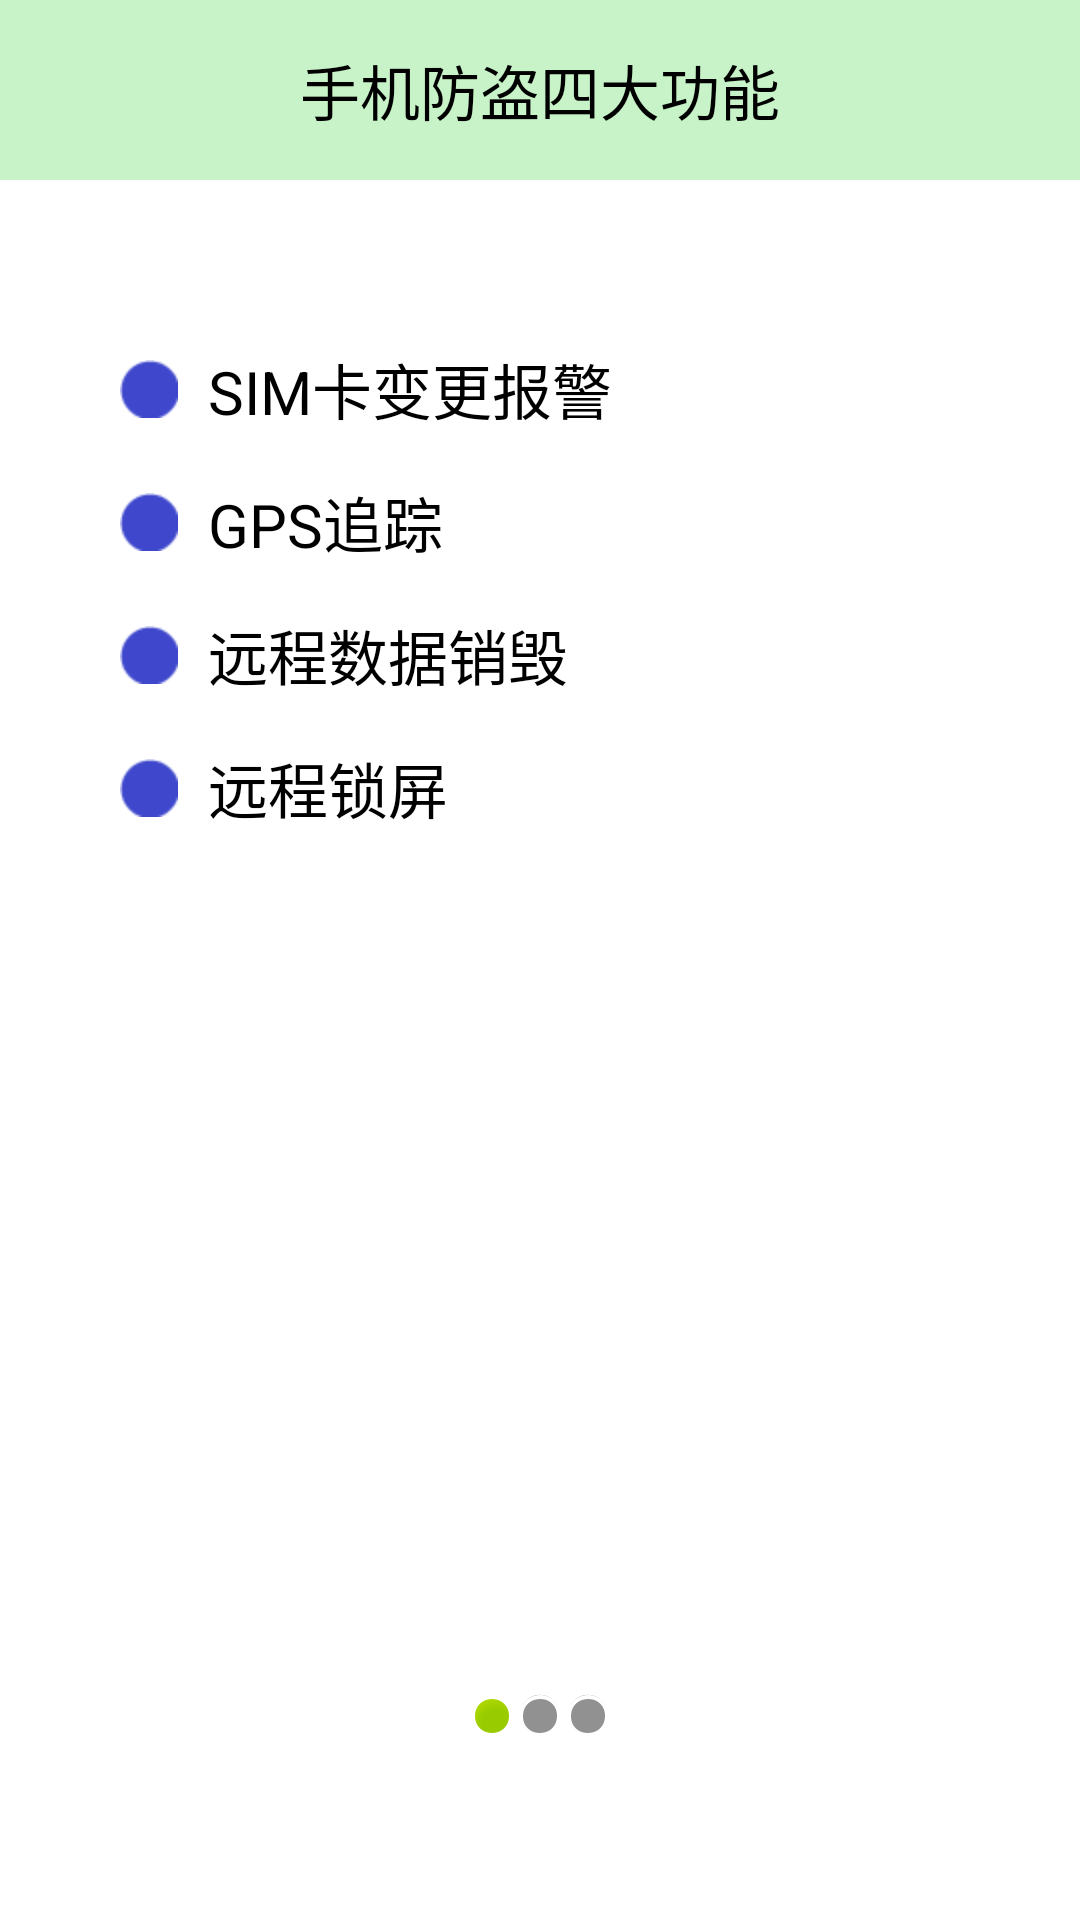

Locate icon controls on the screen. Image size 1080 x 1920, boxes as (x1, y1, x2, y2).
presence invisible: (523, 1695, 557, 1733), (571, 1695, 605, 1733)
presence online: (475, 1699, 509, 1733)
